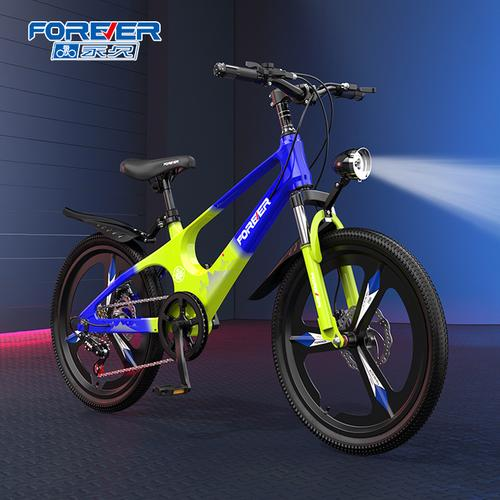单车: (26, 48, 464, 463)
